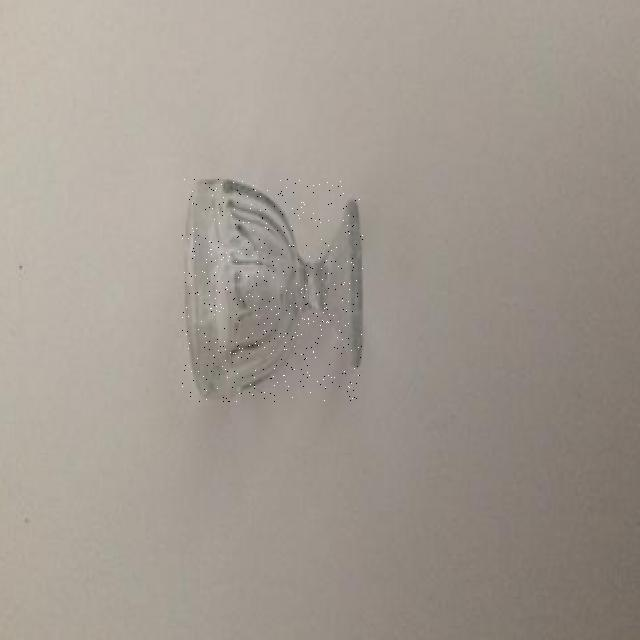glass: (183, 180, 363, 402)
